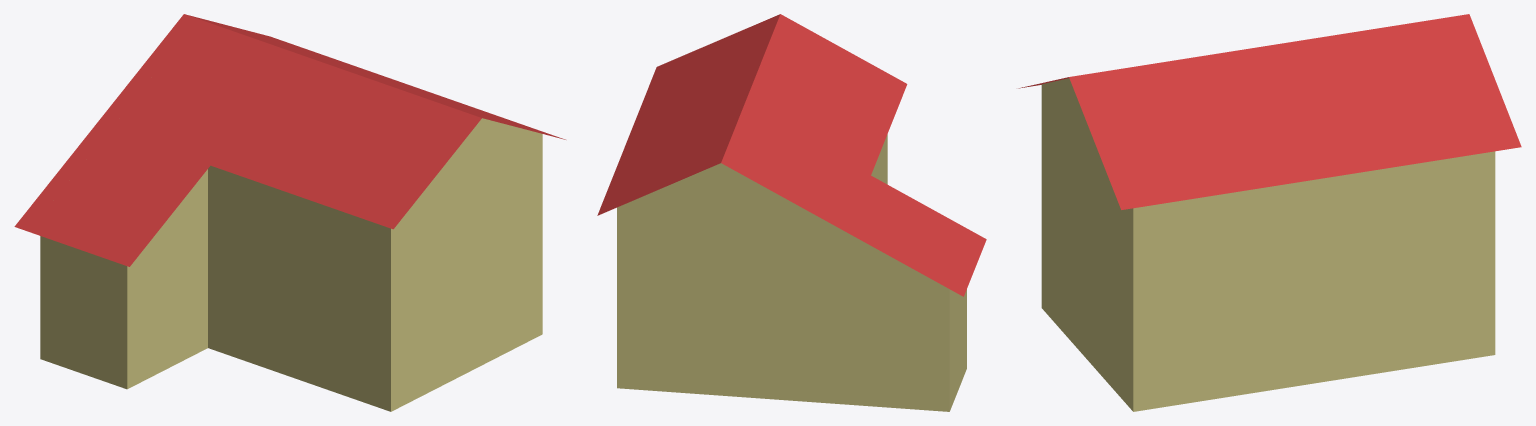
3 renders of one model, left to right at view 1: azimuth 30°, elevation 25°; view 2: azimuth 150°, elevation 25°; view 3: azimuth 270°, elevation 25°, orthographic. The views are drawn at different scales.
Size of the model in its own units: 20.75 by 18.59 by 11.61.
